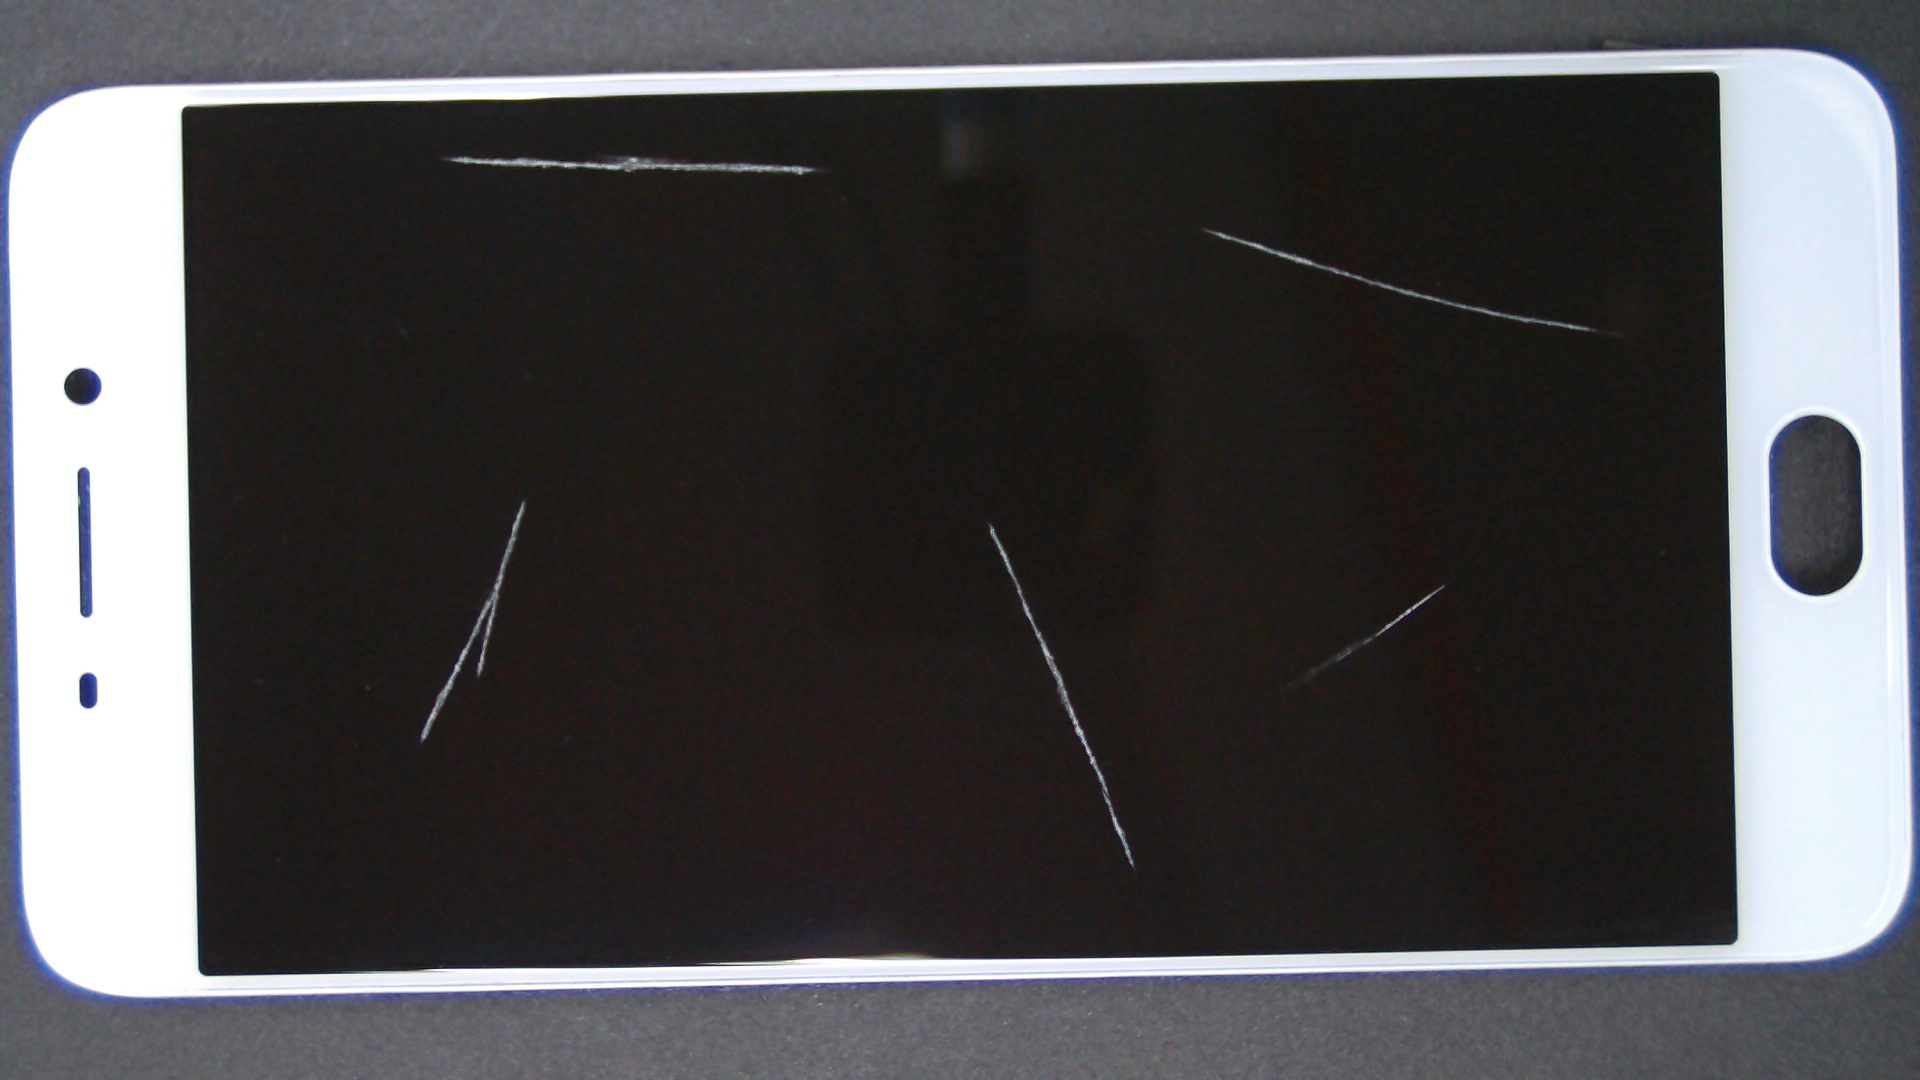oil: (723, 291, 1920, 877), (493, 260, 1481, 785), (603, 112, 1805, 339), (262, 249, 785, 750), (229, 76, 688, 233)
